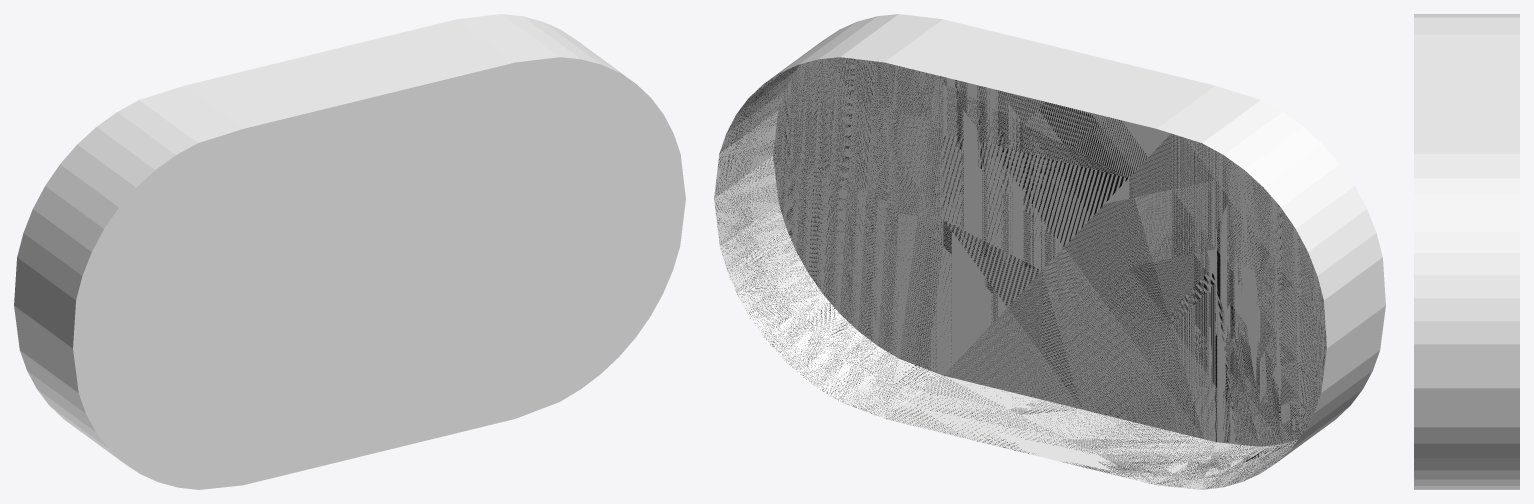
Rendered from original-23.obj.
3 views of the same model, side by side, from view 1: azimuth 30°, elevation 25°; view 2: azimuth 150°, elevation 25°; view 3: azimuth 270°, elevation 25° (orthographic). The views are drawn at different scales.
Parts seen in each view (by area): view 1: mesh9/mesh9-geometry/material_0/component_10#mesh9-geometry; view 2: mesh9/mesh9-geometry/material_0/component_10#mesh9-geometry; view 3: mesh9/mesh9-geometry/material_0/component_10#mesh9-geometry.
Boxes of the visible parts, box(x1,y1,x2,y2) form: mesh9/mesh9-geometry/material_0/component_10#mesh9-geometry: box(14, 14, 685, 489); mesh9/mesh9-geometry/material_0/component_10#mesh9-geometry: box(714, 14, 1385, 489); mesh9/mesh9-geometry/material_0/component_10#mesh9-geometry: box(1414, 14, 1519, 489).
Bounding box in the file's own units: 0.091 × 0.0506 × 0.0152.
